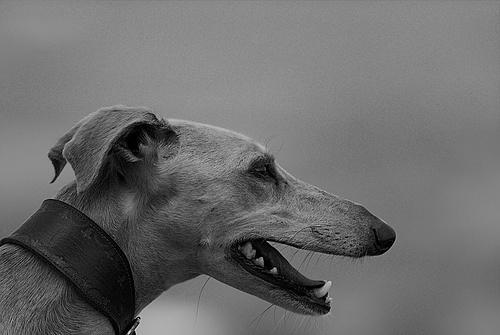dog: (2, 104, 398, 334)
